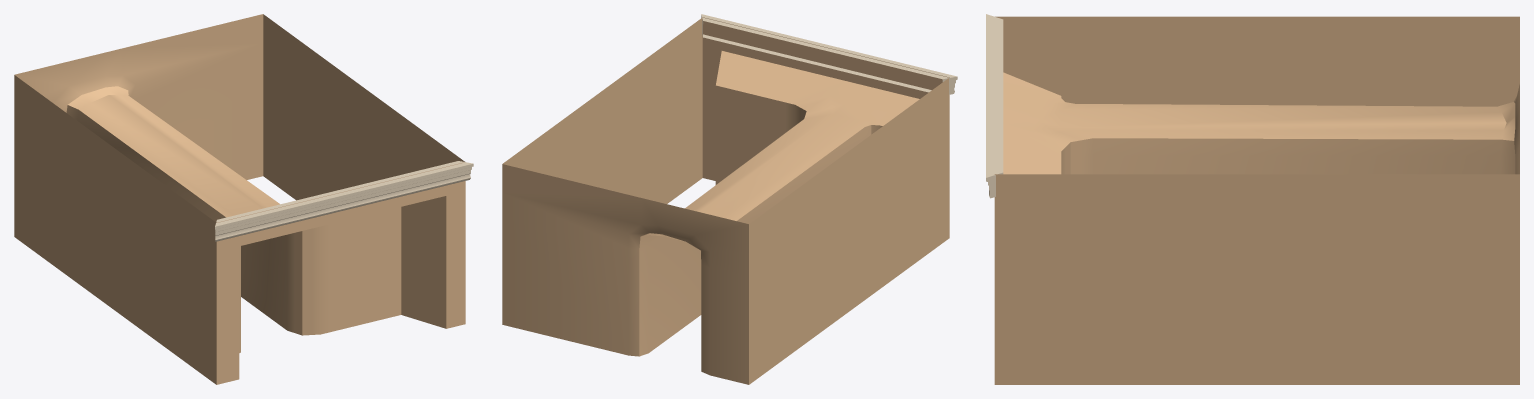
3 renders of one model, left to right at view 1: azimuth 30°, elevation 25°; view 2: azimuth 150°, elevation 25°; view 3: azimuth 270°, elevation 25°, orthographic. The views are drawn at different scales.
Visible parts, largest first — view 1: B1_GF_04; view 2: B1_GF_04; view 3: B1_GF_04.
Boxes of the visible parts, x1,y1,x2,y2 form: B1_GF_04: (14, 14, 473, 384); B1_GF_04: (502, 14, 957, 384); B1_GF_04: (986, 14, 1519, 384).
Size of the model in its own units: 5.9 by 3.53 by 8.12.
